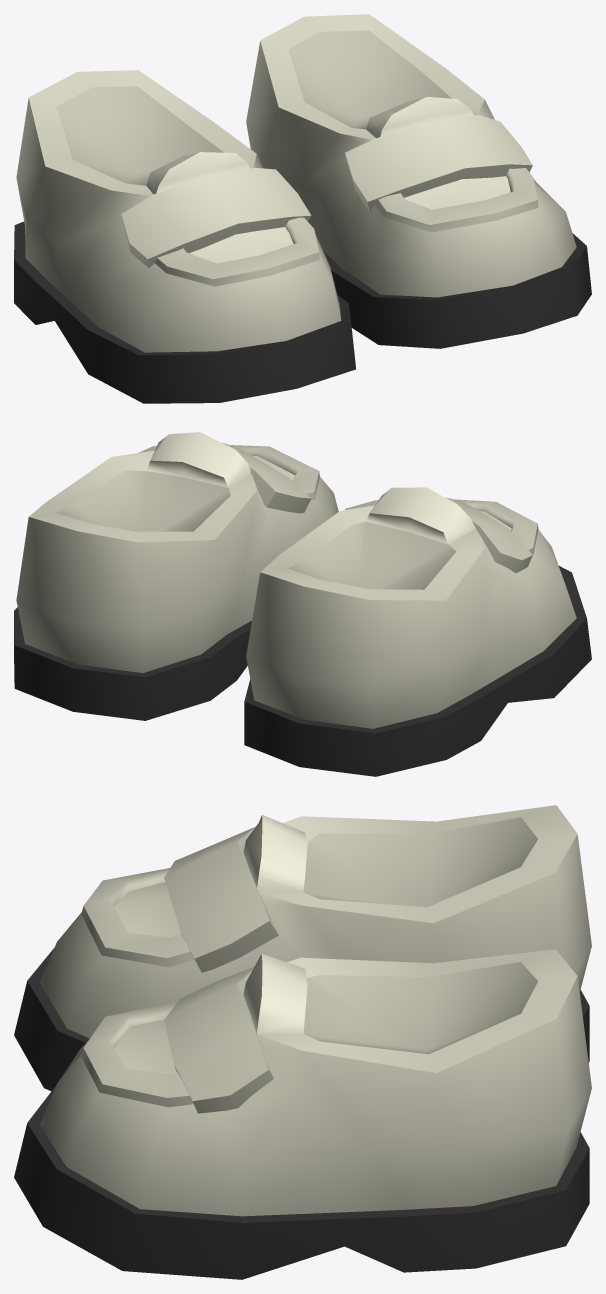
The model's file is Shoes_11.fbx.
The picture shows the model from 3 angles, top to bottom: view 1: azimuth 30°, elevation 25°; view 2: azimuth 150°, elevation 25°; view 3: azimuth 270°, elevation 25°; orthographic projection. The views are drawn at different scales.
Visible parts, largest first — view 1: Shoes_11; view 2: Shoes_11; view 3: Shoes_11.
Part boxes in pixels (bbox=[...]): Shoes_11: bbox=[14, 14, 591, 403]; Shoes_11: bbox=[14, 432, 591, 776]; Shoes_11: bbox=[14, 805, 591, 1279].
Size of the model in its own units: 41.82 by 16.06 by 34.92.
